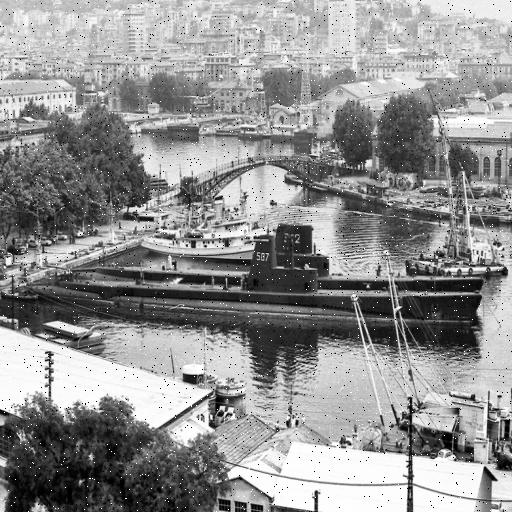submarine: (43, 234, 487, 323), (70, 219, 498, 293)
